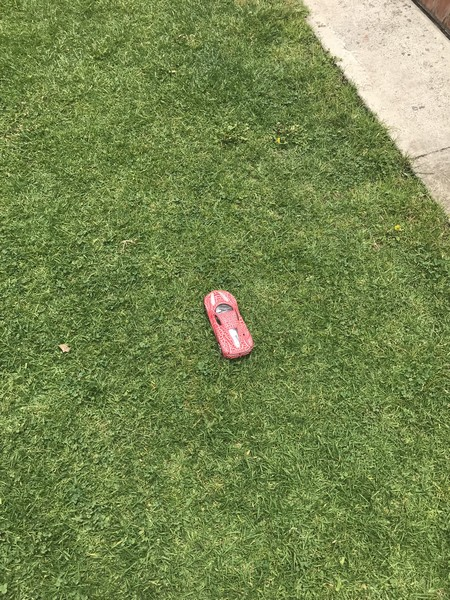RC: (203, 285, 256, 360)
